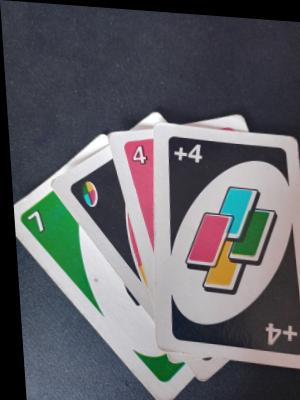colour: (41, 141, 155, 341)
green: (0, 182, 190, 400)
num_4: (123, 136, 152, 172)
num_7: (16, 204, 51, 240)
